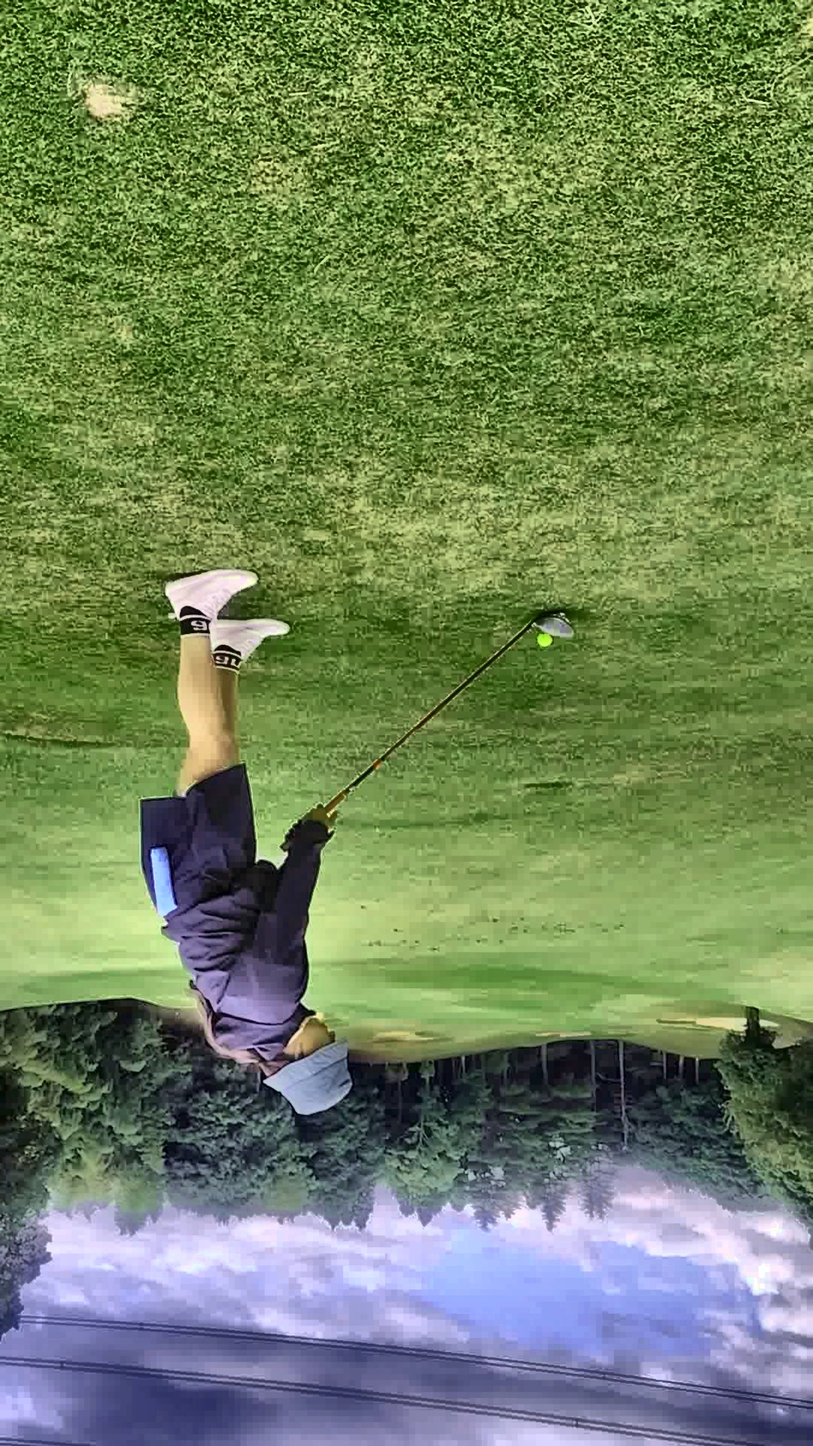clubhead: (416, 509, 701, 757)
